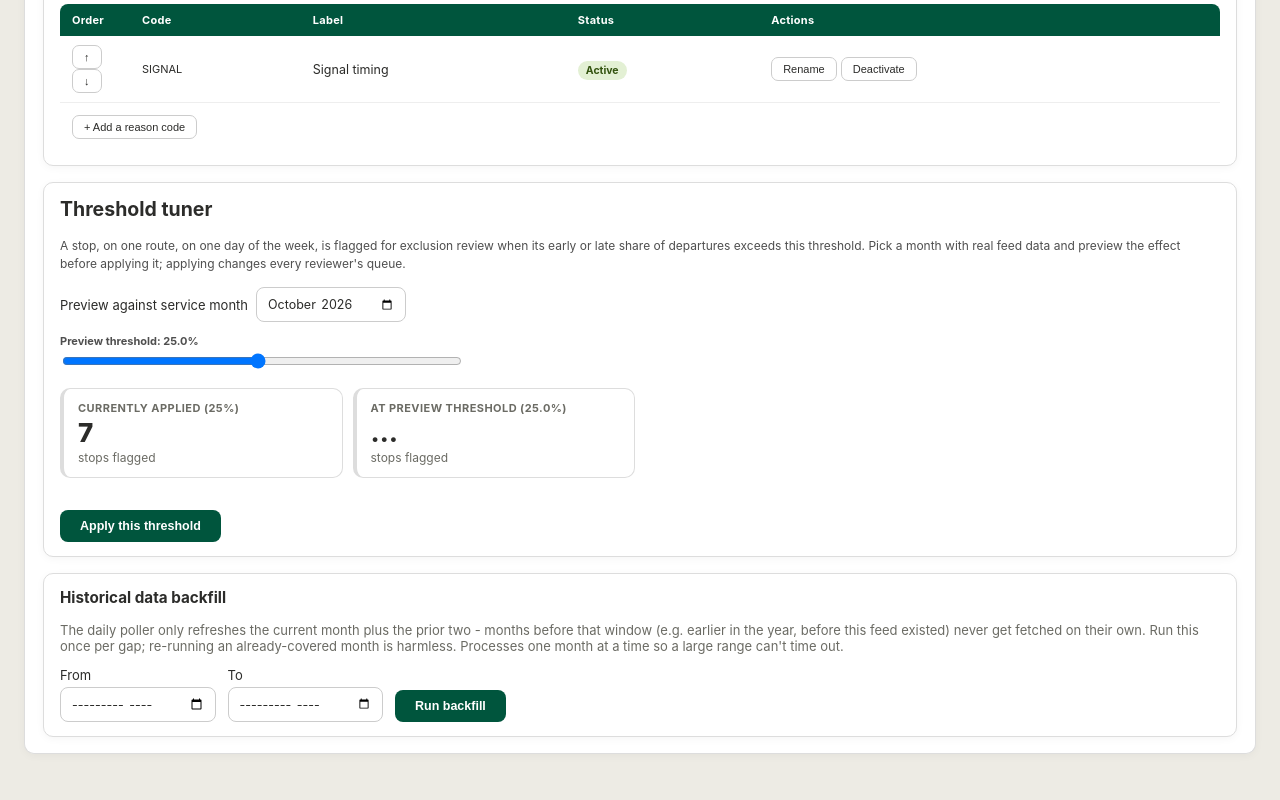
Test case: OTP compliance administration › says when a month came back with two records on one key
(page scrolled)
Expected: the heading "Historical data backfill" is shown, [60,588,226,607]
In the field labelled "From": (138, 705) [60,687,216,722], type "2026-03"
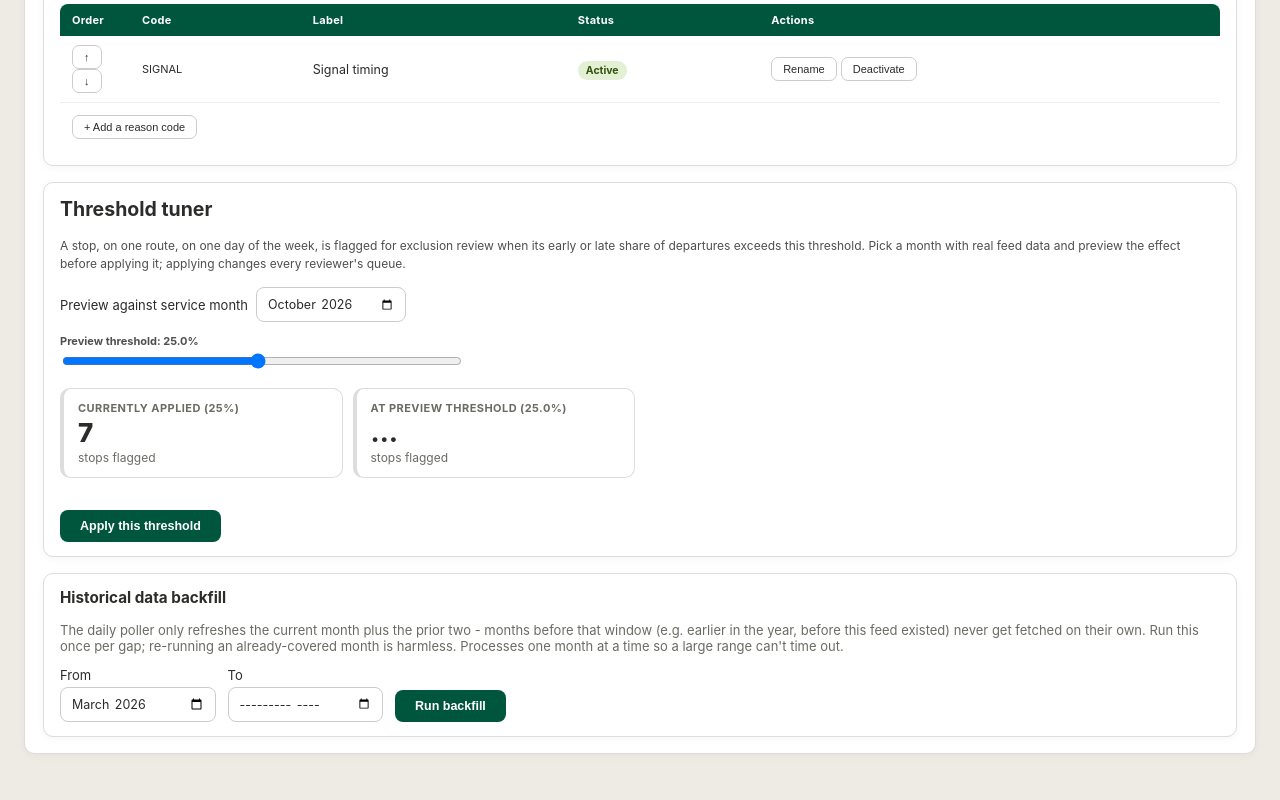
In the field labelled "To": (305, 705) [228,687,383,722], type "2026-03"
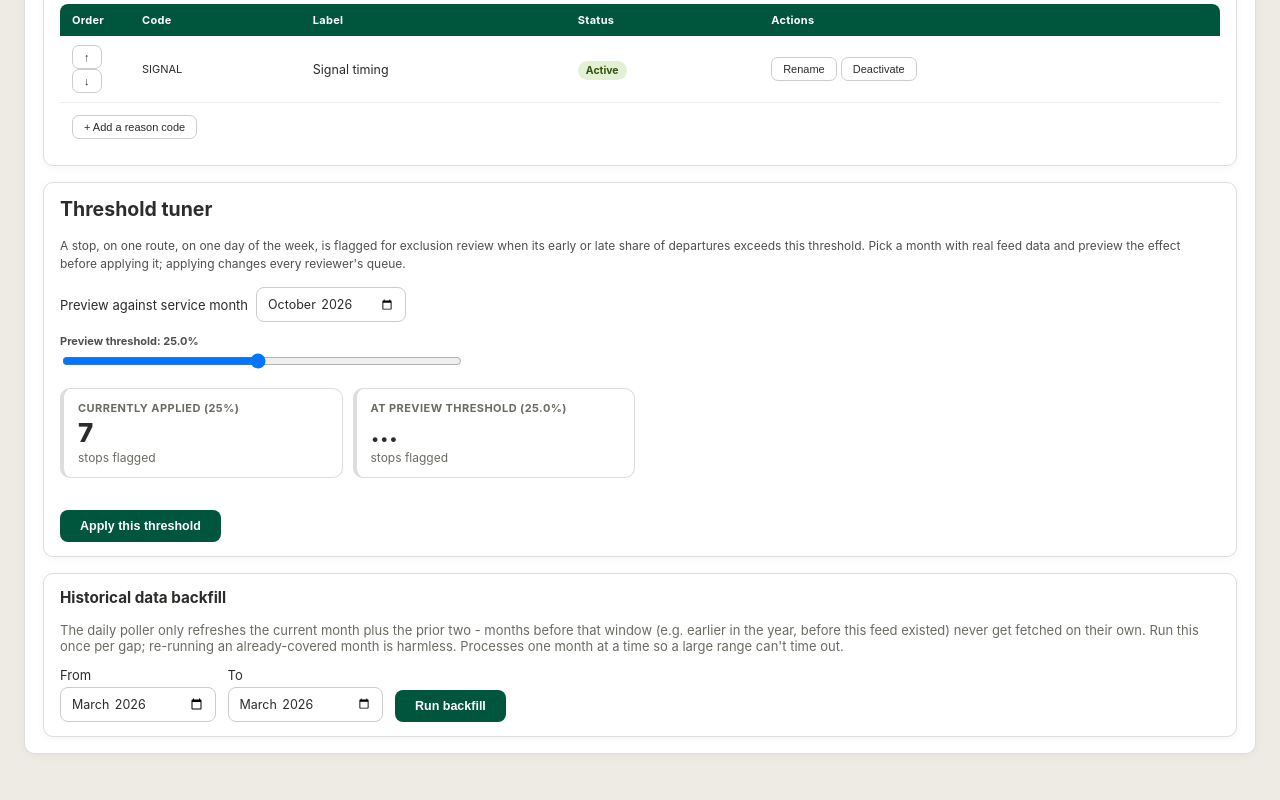
Click the button "Run backfill": (450, 706) [395,690,506,722]
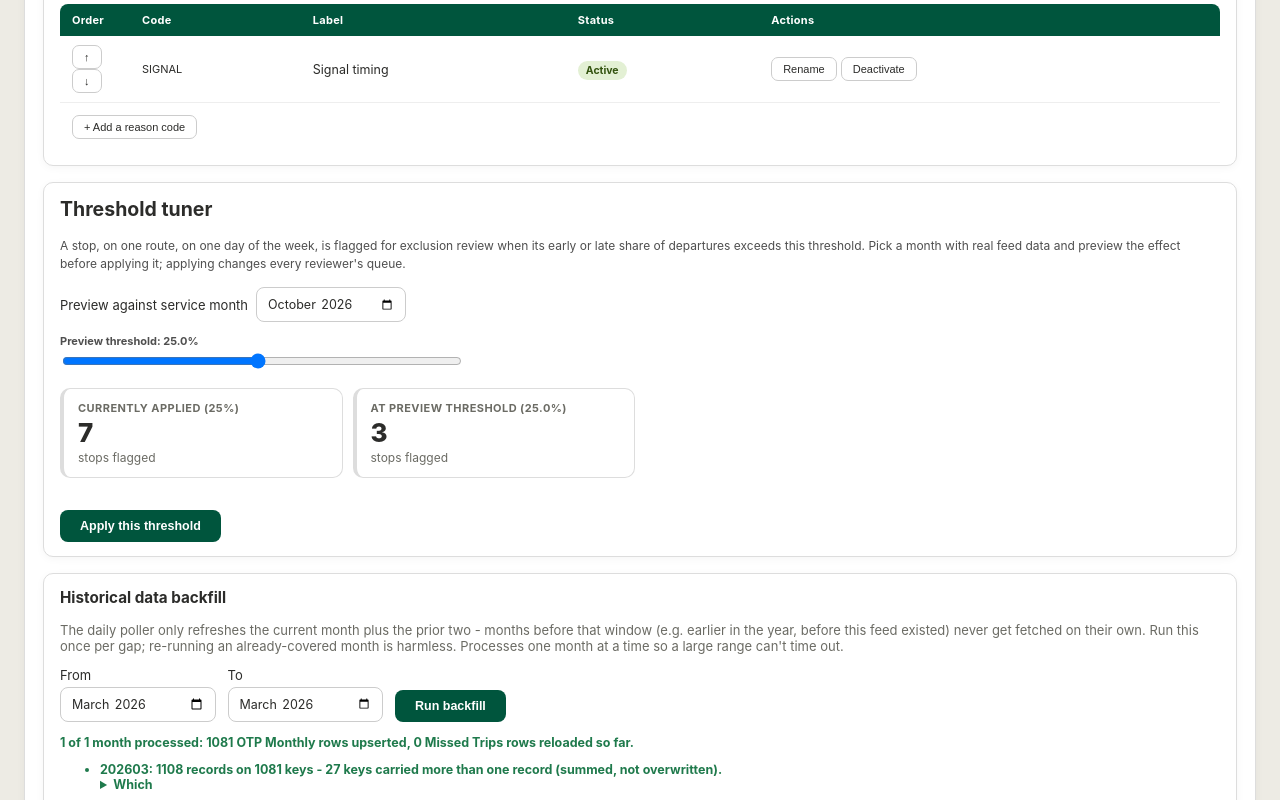
Expected: the list item "27 keys carried more than one record" is shown, [100,762,722,792]
